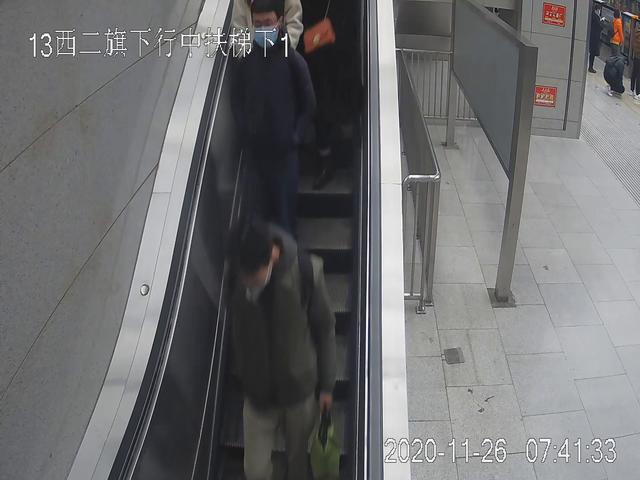person: (226, 219, 338, 480), (240, 1, 315, 256), (585, 2, 601, 75), (609, 12, 627, 67)
